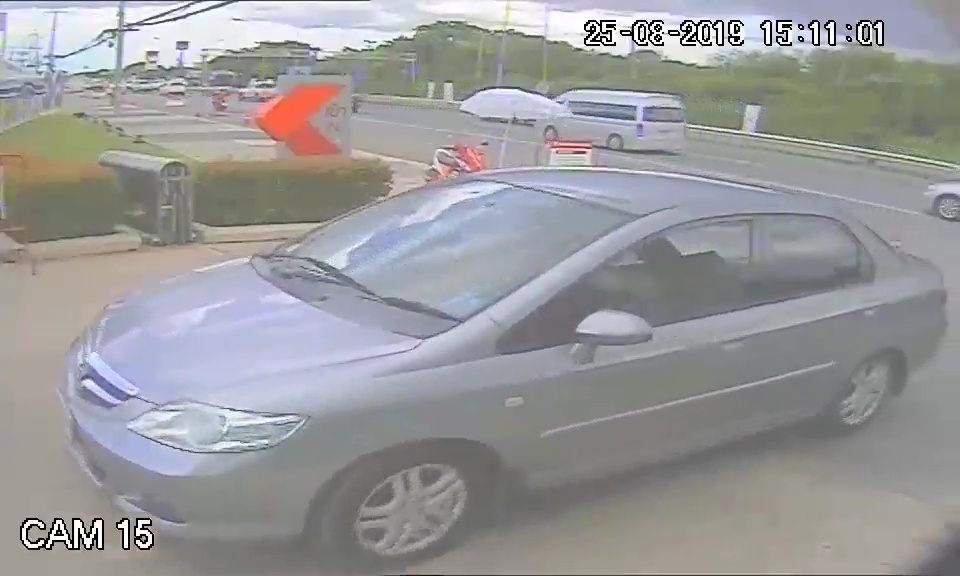sedan: (49, 164, 932, 535)
